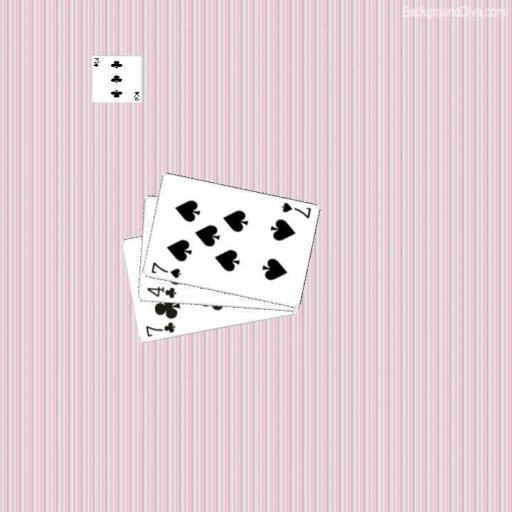card-corner: (147, 260, 182, 280), (278, 200, 312, 220), (142, 320, 176, 338), (144, 284, 177, 299)
